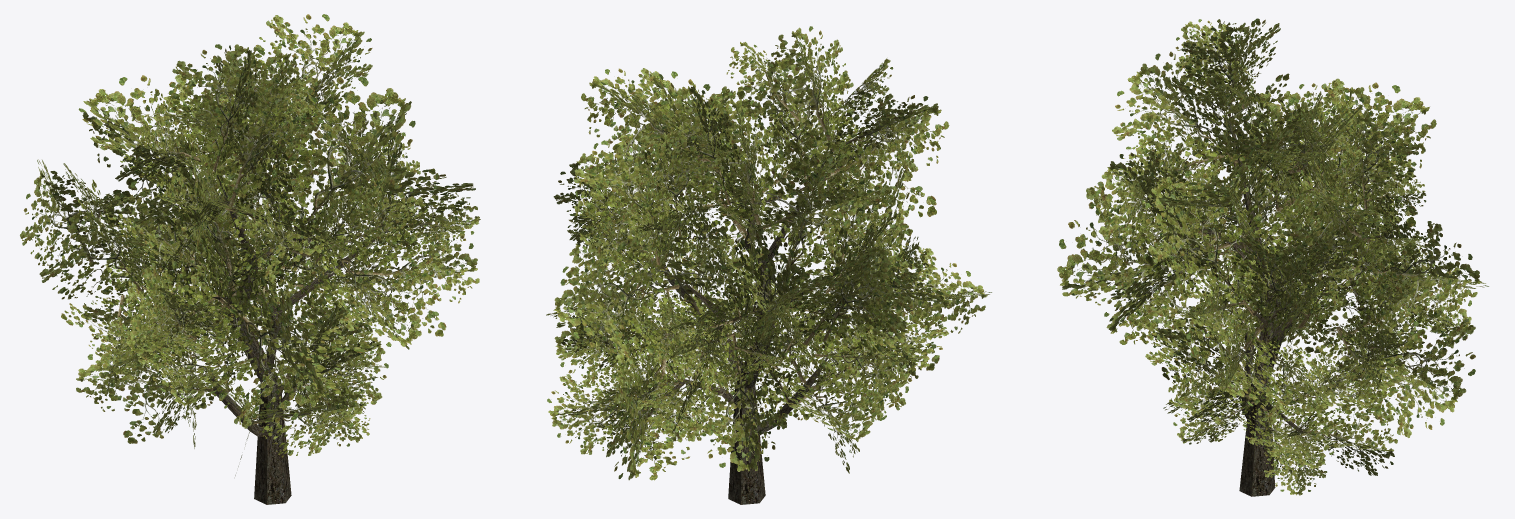
The model's file is tree_h.FBX.
3 renders of one model, left to right at view 1: azimuth 30°, elevation 25°; view 2: azimuth 150°, elevation 25°; view 3: azimuth 270°, elevation 25°, orthographic. The views are drawn at different scales.
Visible parts, largest first — view 1: tree_h; view 2: tree_h; view 3: tree_h.
Boxes of the visible parts, x1=… form: tree_h: x1=20, y1=14, x2=480, y2=504; tree_h: x1=546, y1=26, x2=991, y2=504; tree_h: x1=1057, y1=18, x2=1488, y2=496.
Bounding box in the file's own units: 15.93 × 17.44 × 15.98.
Materials: 2 (2 with a texture image).
